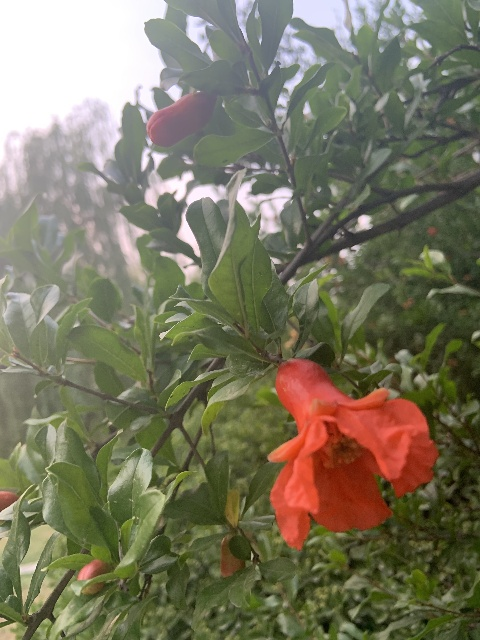bud: (147, 90, 213, 148), (76, 559, 108, 595), (219, 535, 245, 578)
flower: (266, 358, 439, 550)
